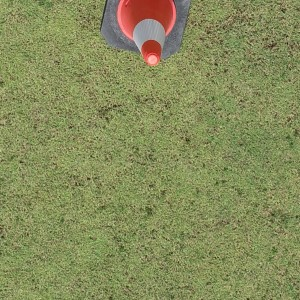traffic cone: (99, 1, 190, 65)
